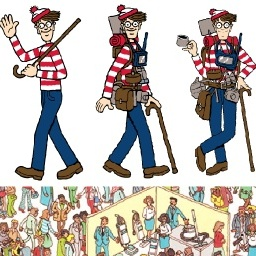waldo: (93, 5, 162, 112), (116, 4, 149, 43), (29, 6, 59, 45), (210, 9, 239, 44)
